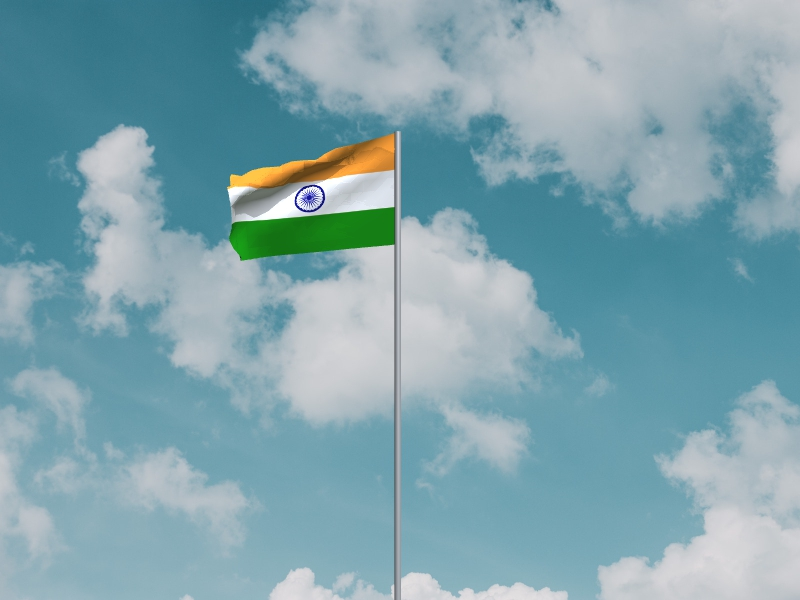in: (227, 134, 395, 262)
